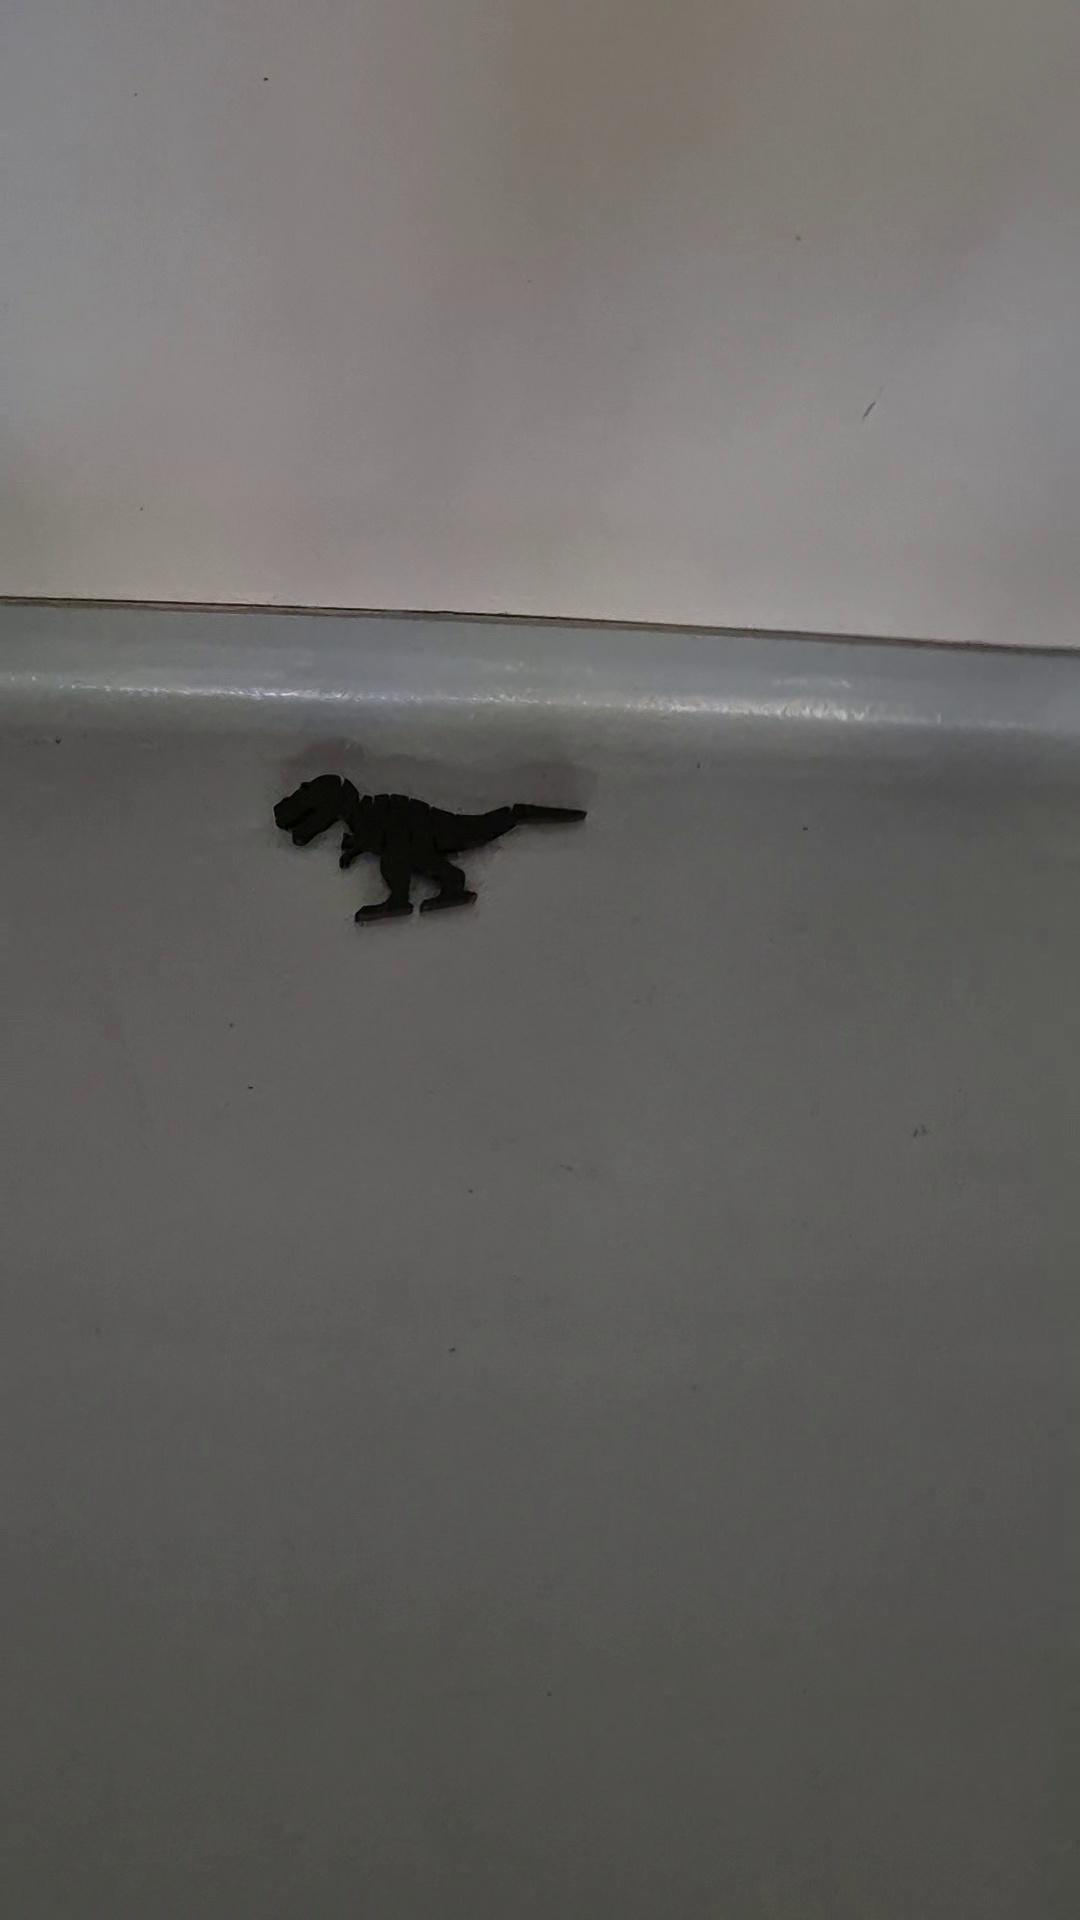dinosaur: (273, 773, 588, 924)
